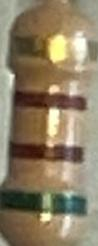Brown: (14, 87, 88, 112), (9, 143, 85, 163)
Green: (2, 187, 86, 216)
Side-Gold: (12, 33, 96, 65)
